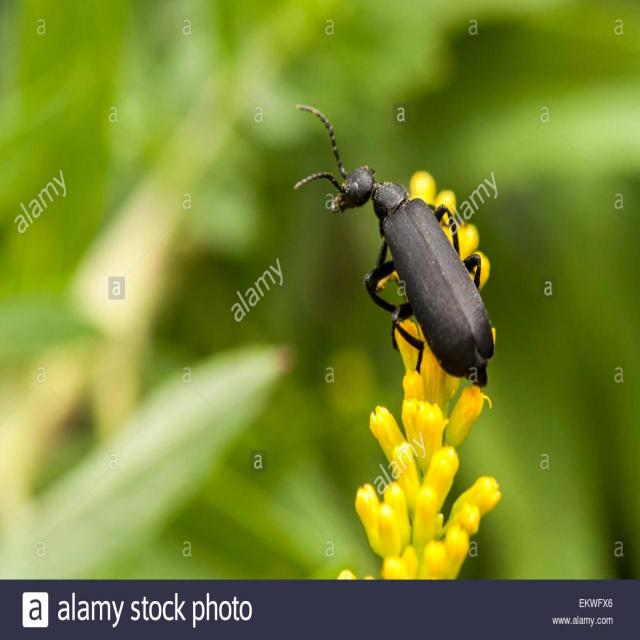BlisterBeetle-Adult-: (288, 100, 504, 384)
